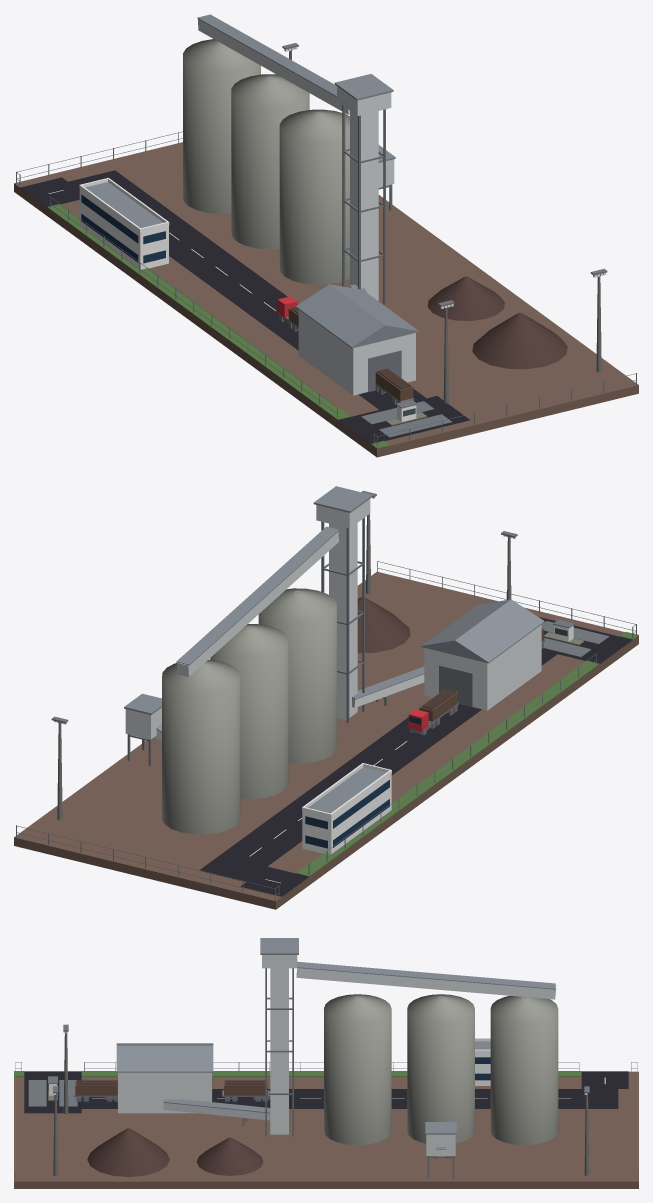
The model's file is top-prebuilt.fbx.
3 views of the same model, one above another, from view 1: azimuth 30°, elevation 25°; view 2: azimuth 150°, elevation 25°; view 3: azimuth 270°, elevation 25° (orthographic). The views are drawn at different scales.
Visible parts, largest first — view 1: a1077_0_top-prebuilt; view 2: a1077_0_top-prebuilt; view 3: a1077_0_top-prebuilt.
Part boxes in pixels (x1,y1,x2,y2): a1077_0_top-prebuilt: (14,14,638,457); a1077_0_top-prebuilt: (14,486,638,909); a1077_0_top-prebuilt: (14,938,638,1188).
Size of the model in its own units: 50 by 40.8 by 120.
